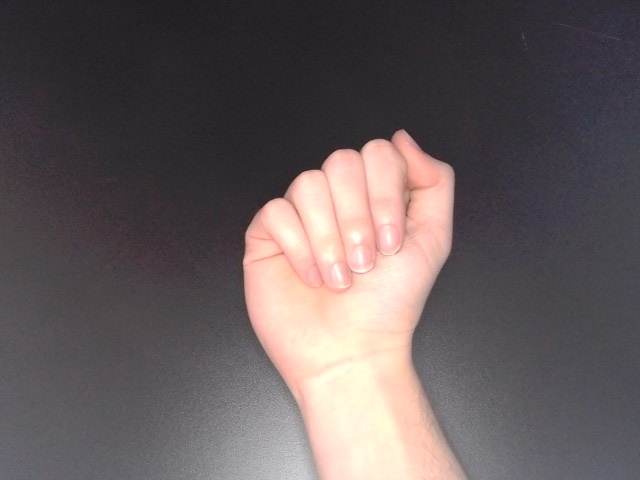a: (237, 126, 464, 383)
